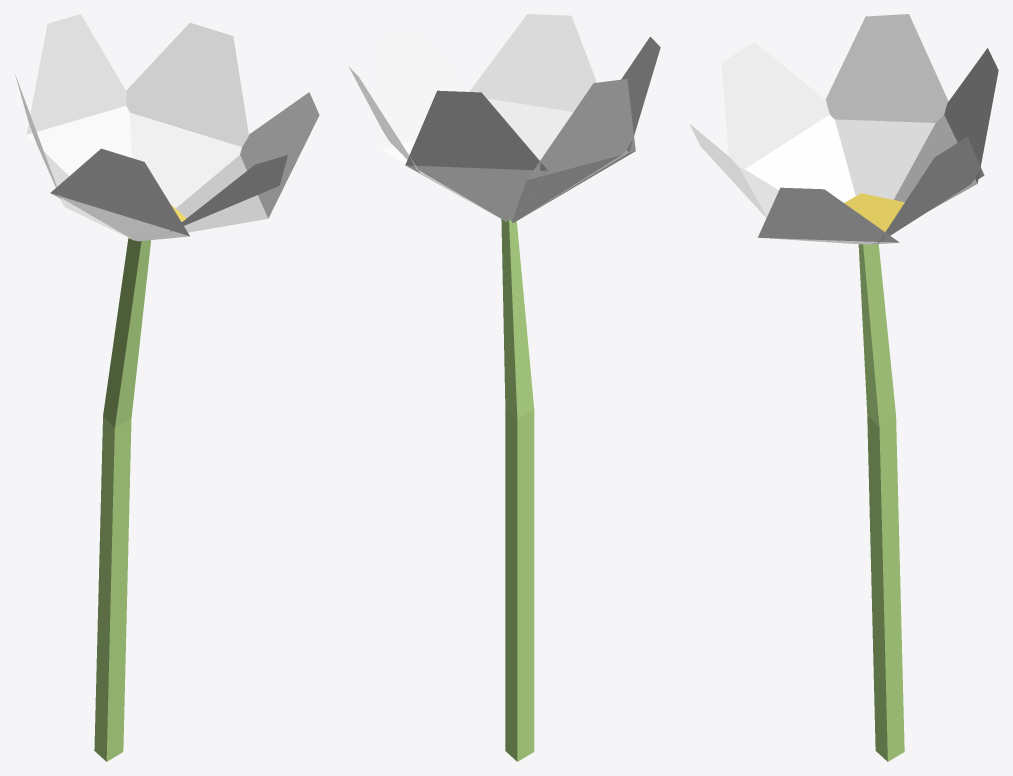
File: Flower_e_OneS_01.fbx
3 views of the same model, side by side, from view 1: azimuth 30°, elevation 25°; view 2: azimuth 150°, elevation 25°; view 3: azimuth 270°, elevation 25° (orthographic).
Visible parts, largest first — view 1: Flower_e_OneS_01; view 2: Flower_e_OneS_01; view 3: Flower_e_OneS_01.
Boxes of the visible parts, x1,y1,x2,y2 form: Flower_e_OneS_01: (15,14,319,761); Flower_e_OneS_01: (348,14,660,761); Flower_e_OneS_01: (690,14,998,761).
Size of the model in its own units: 0.1462 by 0.368 by 0.1471.
